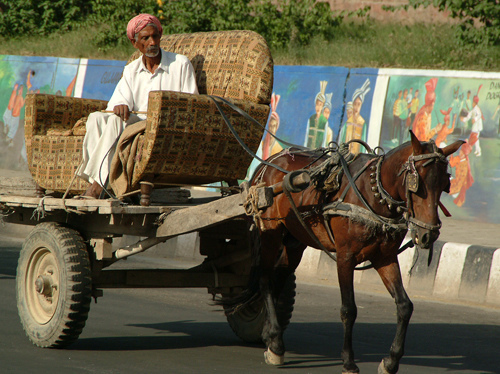horse: (244, 119, 468, 374)
